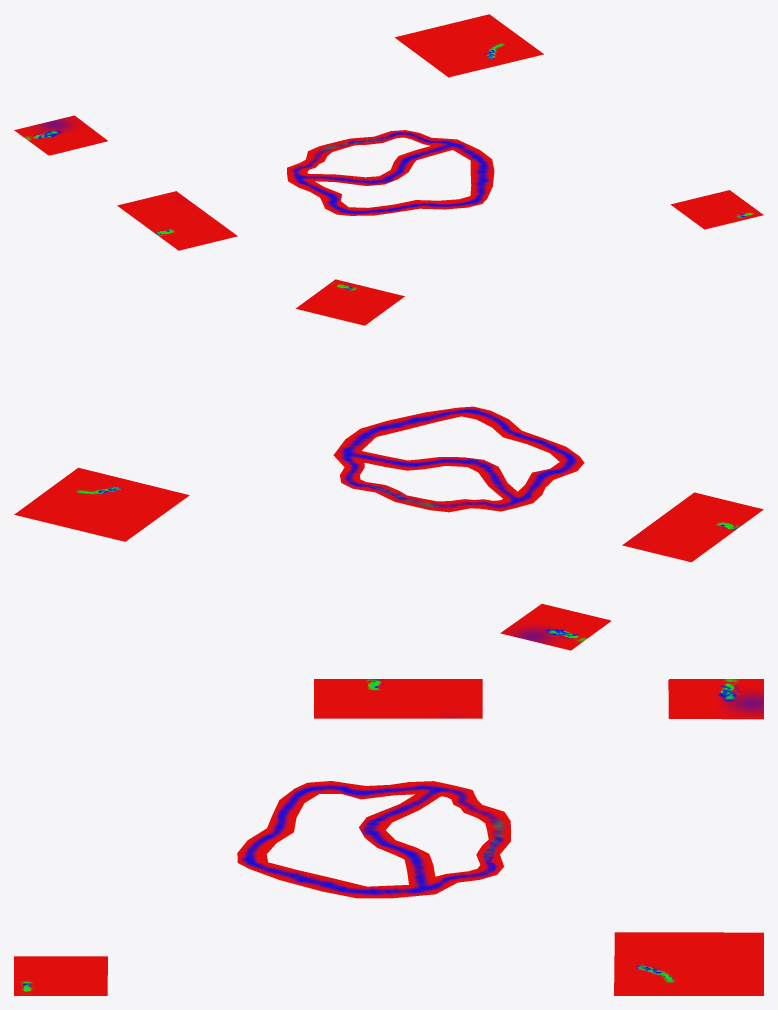
Rendered from gushan_dixing.FBX.
3 views of the same model, one above another, from view 1: azimuth 30°, elevation 25°; view 2: azimuth 150°, elevation 25°; view 3: azimuth 270°, elevation 25° (orthographic). The views are drawn at different scales.
Visible parts, largest first — view 1: gushan_dixing; view 2: gushan_dixing; view 3: gushan_dixing.
Part boxes in pixels (bbox=[...]): gushan_dixing: bbox=[14, 14, 763, 250]; gushan_dixing: bbox=[14, 279, 763, 650]; gushan_dixing: bbox=[14, 679, 763, 995].
Size of the model in its own units: 40000 by 0.01 by 40000.
1 material, 1 textured.
